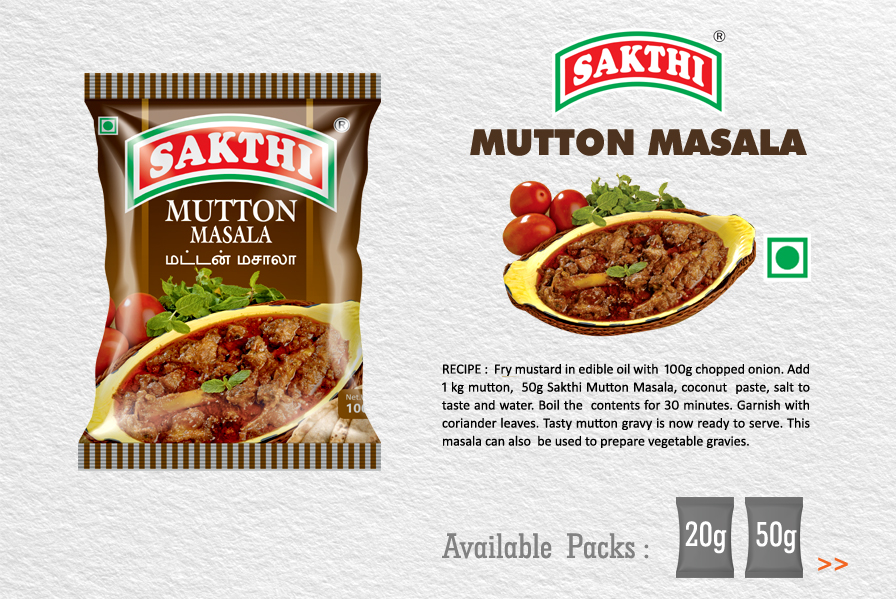VEG: (763, 231, 812, 283), (96, 114, 119, 136)
